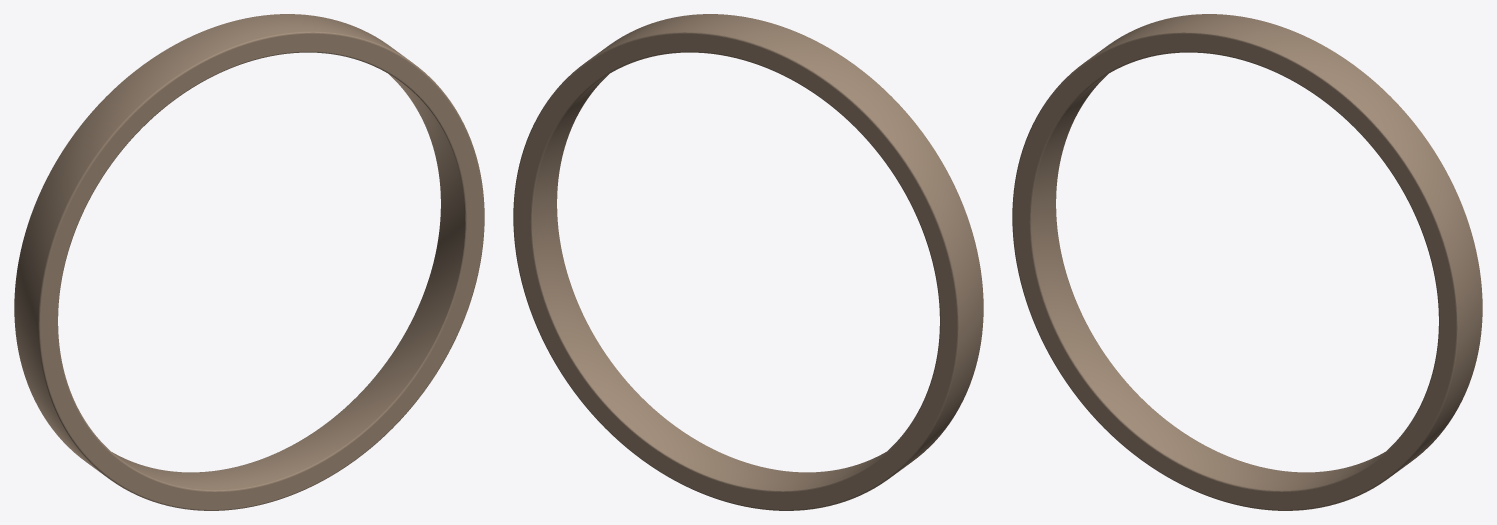
The model's file is plain-ring.glb.
3 views of the same model, side by side, from view 1: azimuth 30°, elevation 25°; view 2: azimuth 150°, elevation 25°; view 3: azimuth 330°, elevation 25° (orthographic).
Parts seen in each view (by area): view 1: Living Frame - plain ring prototype; view 2: Living Frame - plain ring prototype; view 3: Living Frame - plain ring prototype.
Boxes of the visible parts, left/top/right/bottom form: Living Frame - plain ring prototype: left=14, top=14, right=484, bottom=510; Living Frame - plain ring prototype: left=513, top=14, right=983, bottom=510; Living Frame - plain ring prototype: left=1012, top=14, right=1482, bottom=510.
Size of the model in its own units: 1.82 by 1.82 by 0.18.
